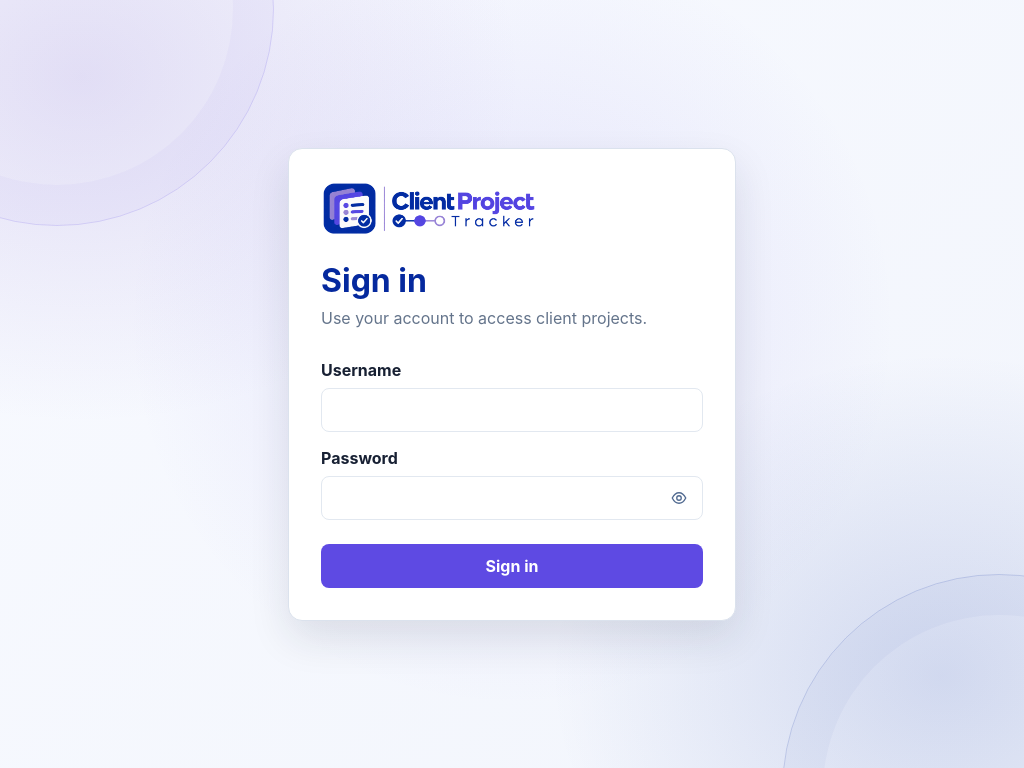
keeps the password hidden by default and lets the user reveal it
The image size is (1024, 768).
Click the button named "Show password" at (679, 498), box [661,480,697,516]
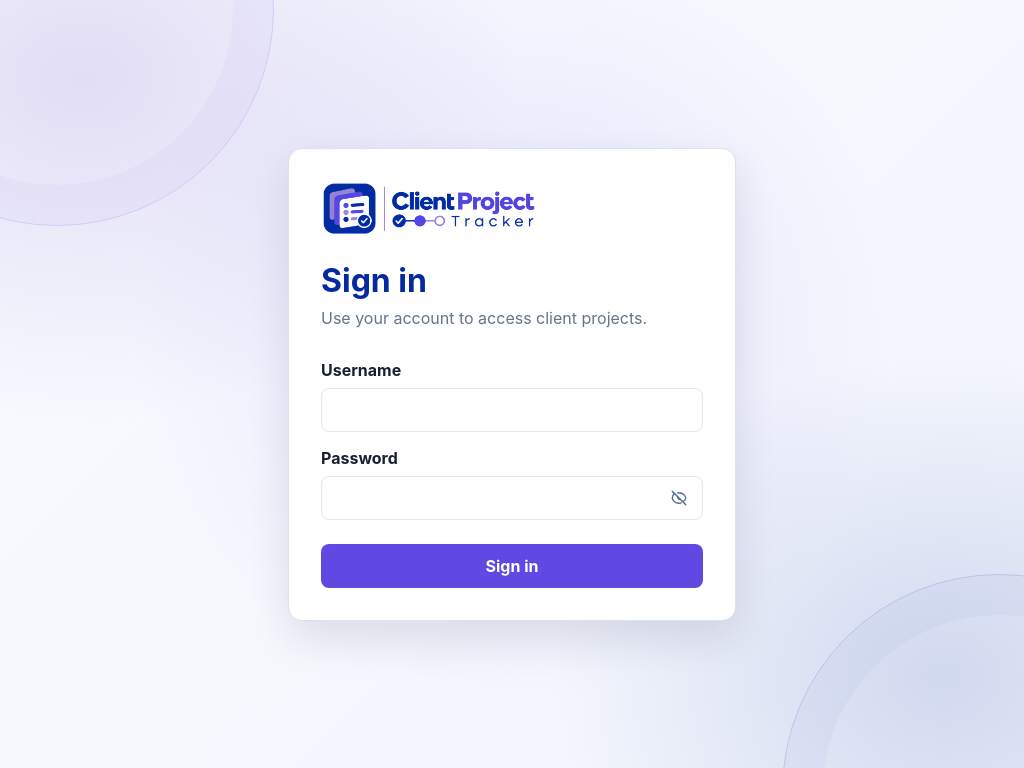
Check: the button named "Hide password" is shown, box [661,480,697,516]
